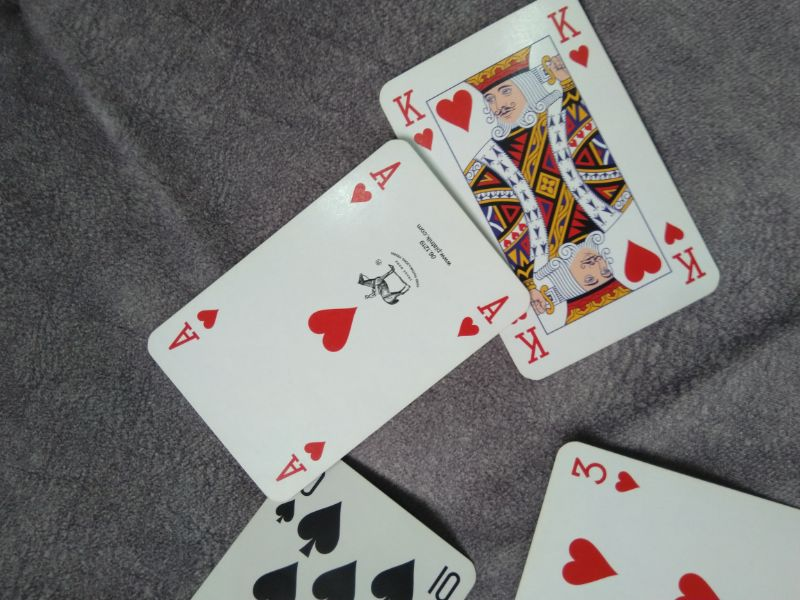3h: (568, 455, 643, 495)
Ah: (345, 156, 406, 207), (455, 290, 511, 340), (167, 306, 223, 355), (272, 438, 328, 484)
Kh: (544, 3, 596, 69), (660, 218, 707, 289), (390, 88, 438, 153)
